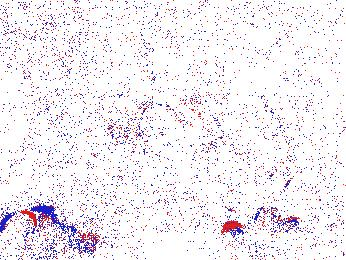flame jellyfish: (217, 206, 299, 260), (1, 210, 55, 260)
